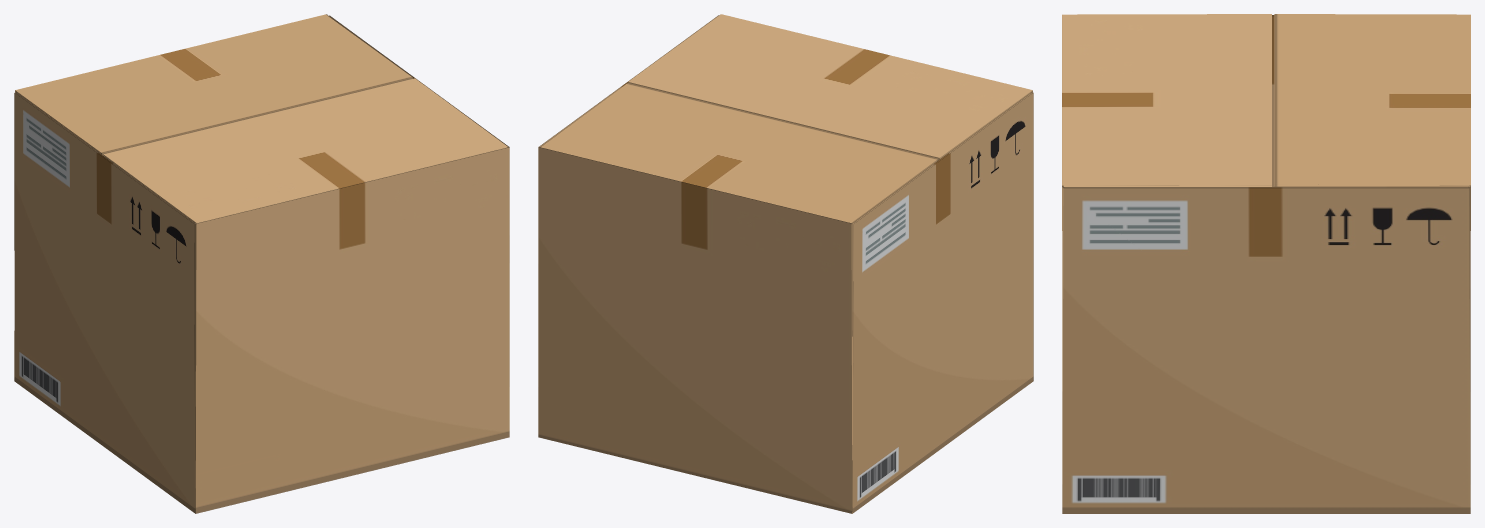
The picture shows the model from 3 angles, left to right: view 1: azimuth 30°, elevation 25°; view 2: azimuth 150°, elevation 25°; view 3: azimuth 270°, elevation 25°; orthographic projection. The views are drawn at different scales.
Parts seen in each view (by area): view 1: Box.Small; view 2: Box.Small; view 3: Box.Small.
Part boxes in pixels (left/top/right/bottom): Box.Small: left=14, top=14, right=509, bottom=513; Box.Small: left=538, top=14, right=1033, bottom=513; Box.Small: left=1062, top=14, right=1470, bottom=513.
Bounding box in the file's own units: 57.14 × 50.45 × 56.98.
Materials: 1 (1 with a texture image).
